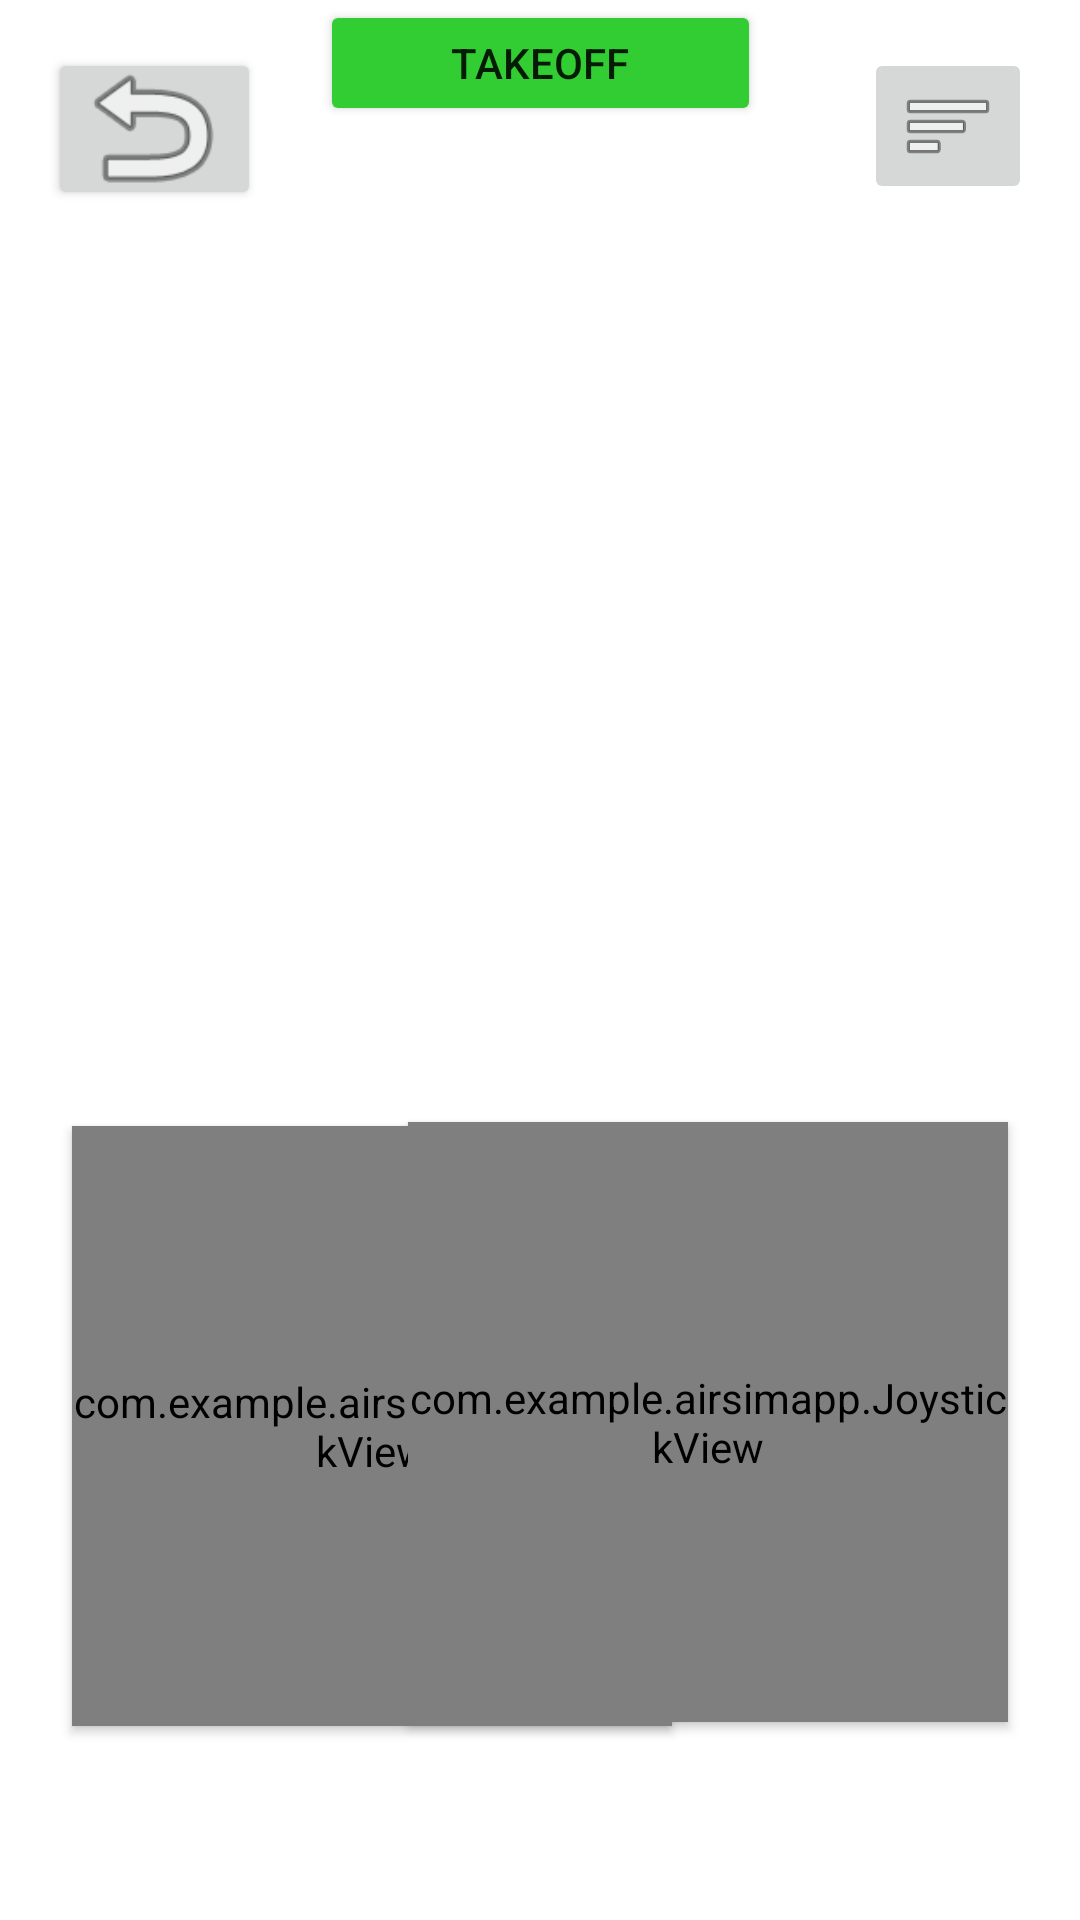

Point at icon controls on the screen. Image size 1080 x 1920, points as (x=x, y=y).
revert: (x=154, y=129)
sort by size: (x=948, y=126)
